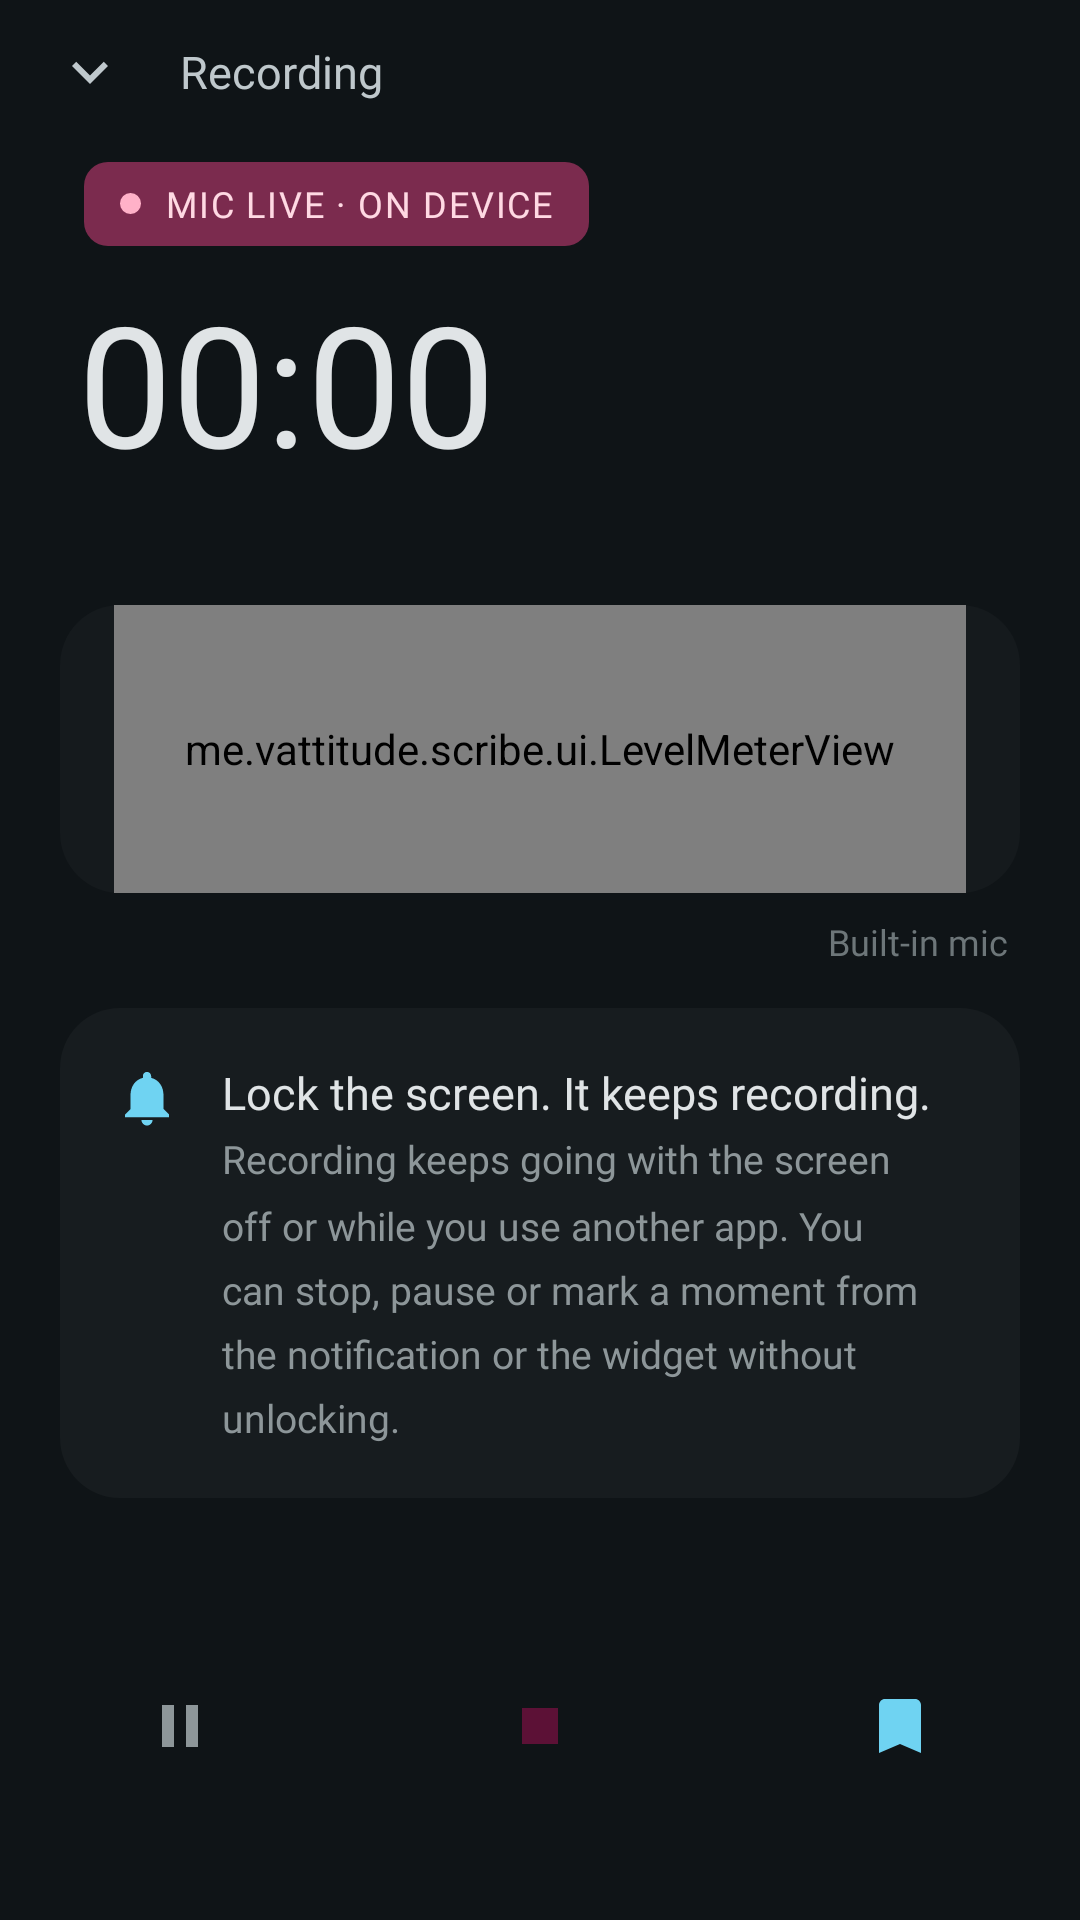

Icon bounding boxes for this 1080w x 1920h phone screenshot, format bbox=[x1, y1, x2, y2]:
bell: bbox=[125, 1072, 169, 1126]
Mark this moment: bbox=[879, 1699, 921, 1753]
Pause recording: bbox=[162, 1705, 198, 1747]
